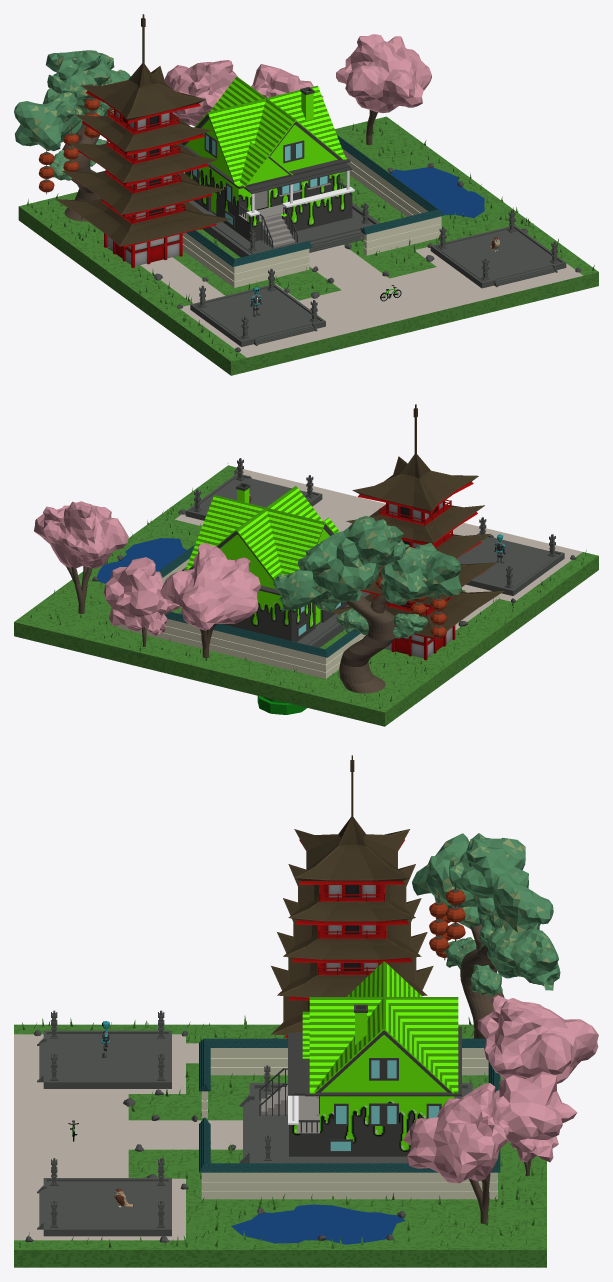
3 renders of one model, top to bottom at view 1: azimuth 30°, elevation 25°; view 2: azimuth 150°, elevation 25°; view 3: azimuth 270°, elevation 25°, orthographic. The views are drawn at different scales.
Visible parts, largest first — view 1: Cube.005, Cube.754; view 2: Cube.005, Cube.754, UNDERGROUND_PIPES; view 3: Cube.005, Cube.754.
Part boxes in pixels (x1,y1,x2,y2): Cube.005: (14,14,598,375); Cube.754: (179,76,354,248); Cube.005: (14,404,598,726); Cube.754: (182,482,347,642); UNDERGROUND_PIPES: (257,696,306,714); Cube.005: (14,755,598,1267); Cube.754: (259,961,461,1156).
Bounding box in the file's own units: 4528 × 3273 × 4389.
Materials: 39 (6 with a texture image).
